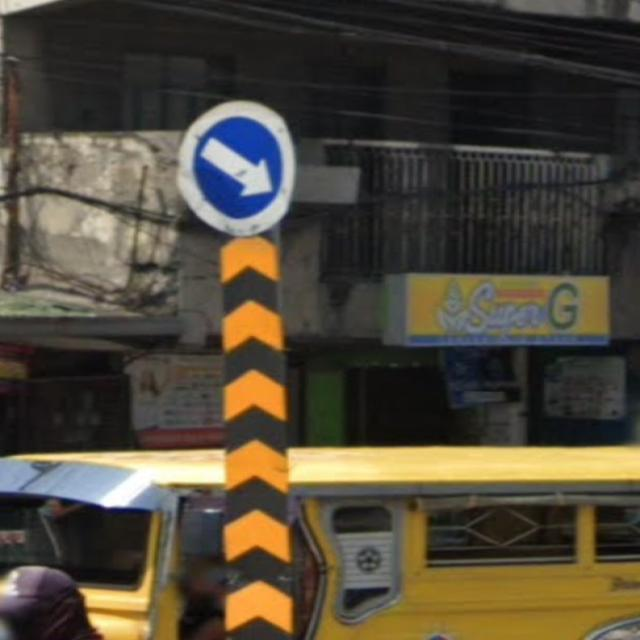keep right: (175, 100, 297, 236)
